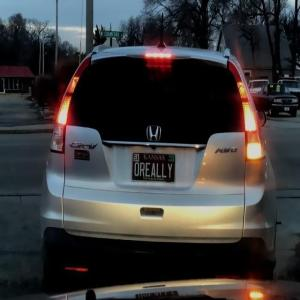Plate: (131, 151, 176, 183)
